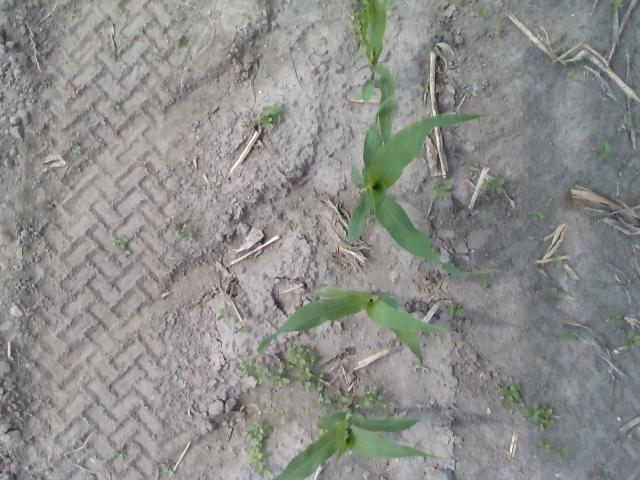Maize: (346, 94, 494, 276), (256, 288, 446, 368), (271, 404, 444, 478), (353, 1, 400, 144)
Weeds: (244, 421, 270, 476), (524, 403, 555, 430), (288, 344, 324, 366), (238, 360, 268, 386), (168, 222, 194, 242), (502, 385, 522, 409), (269, 365, 289, 388), (432, 181, 452, 200), (297, 366, 312, 391), (262, 106, 282, 122), (364, 386, 383, 402), (113, 238, 130, 255), (488, 178, 504, 195), (598, 143, 612, 160), (447, 304, 464, 316), (274, 408, 288, 422), (628, 332, 640, 346), (612, 0, 624, 12), (539, 440, 551, 452), (218, 310, 230, 322), (612, 314, 622, 328), (534, 211, 546, 221), (108, 100, 120, 110), (162, 464, 173, 474), (116, 449, 126, 459), (624, 117, 633, 128), (233, 327, 246, 334), (554, 254, 562, 263), (568, 71, 576, 79), (74, 146, 82, 154), (481, 278, 487, 288), (560, 44, 567, 52), (478, 7, 486, 14), (46, 200, 54, 207), (494, 26, 500, 34), (564, 448, 570, 456), (155, 55, 163, 61), (549, 298, 556, 304), (570, 333, 576, 339), (177, 35, 182, 42), (542, 356, 549, 360), (636, 88, 640, 95)
